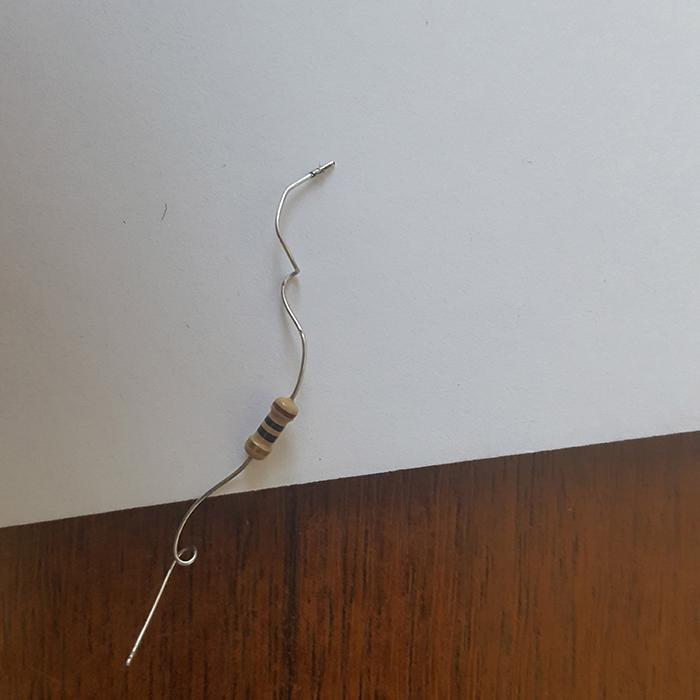resistor: (245, 395, 298, 462)
